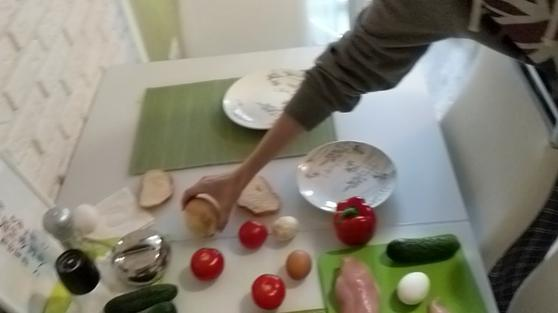champignon: (270, 213, 301, 242)
chicken_fillet: (330, 253, 371, 313)
cucumber: (104, 283, 182, 313)
egg: (73, 202, 100, 237), (286, 248, 314, 280)
onion: (181, 194, 221, 238)
pepper: (333, 196, 373, 248)
tomato: (250, 272, 288, 309), (191, 247, 226, 279), (239, 219, 268, 249)
white_bread: (136, 168, 176, 211)
